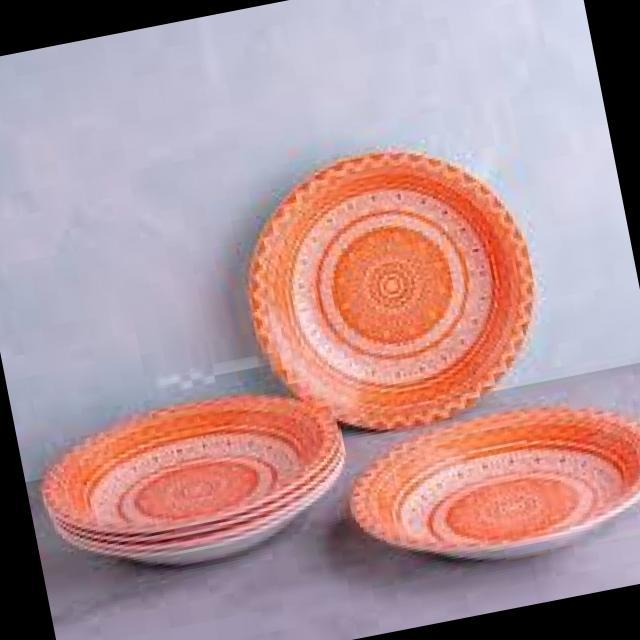plate: (252, 157, 530, 413), (50, 394, 340, 564), (353, 406, 640, 559)
